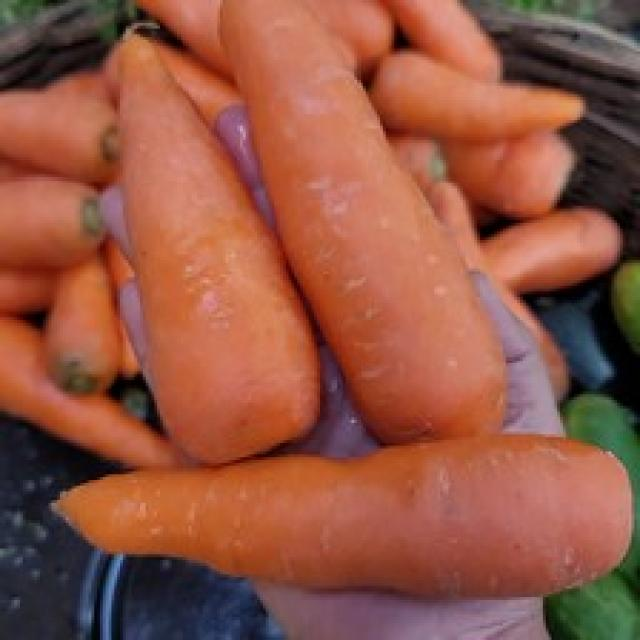Fresh_Carrot: (109, 30, 285, 428)
